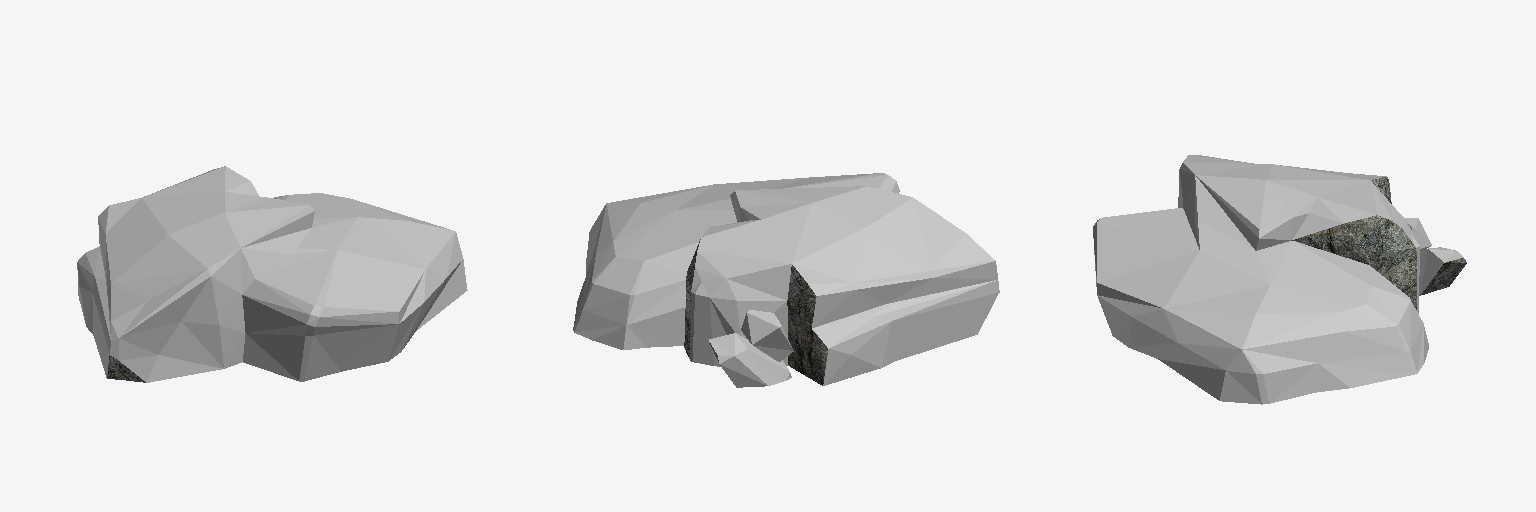
3 views of the same model, side by side, from view 1: azimuth 30°, elevation 25°; view 2: azimuth 150°, elevation 25°; view 3: azimuth 270°, elevation 25° (orthographic).
Visible parts, largest first — view 1: outcropC; view 2: outcropC; view 3: outcropC.
Part boxes in pixels (x1,y1,x2,y2): outcropC: (77,166,467,382); outcropC: (573,173,999,387); outcropC: (1093,155,1466,404).
Bounding box in the file's own units: 54.67 × 15.91 × 46.9.
2 materials, 1 textured.